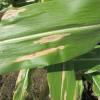Corn leaf blight: (1, 5, 99, 67)
